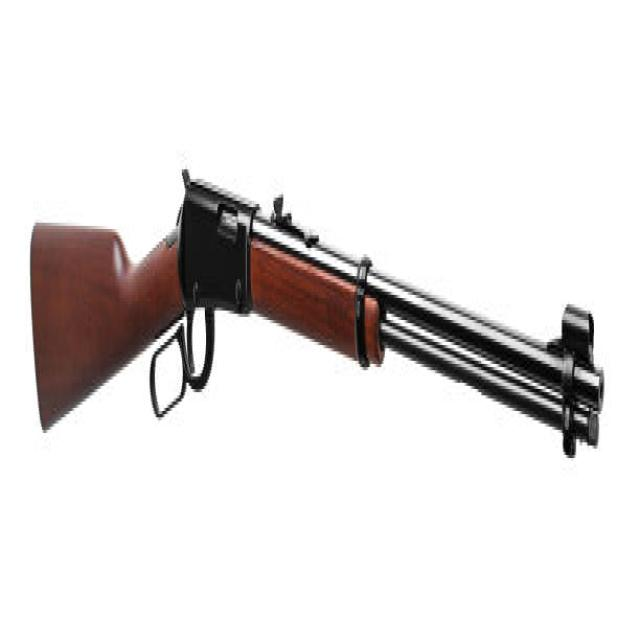rifle: (25, 162, 612, 472)
